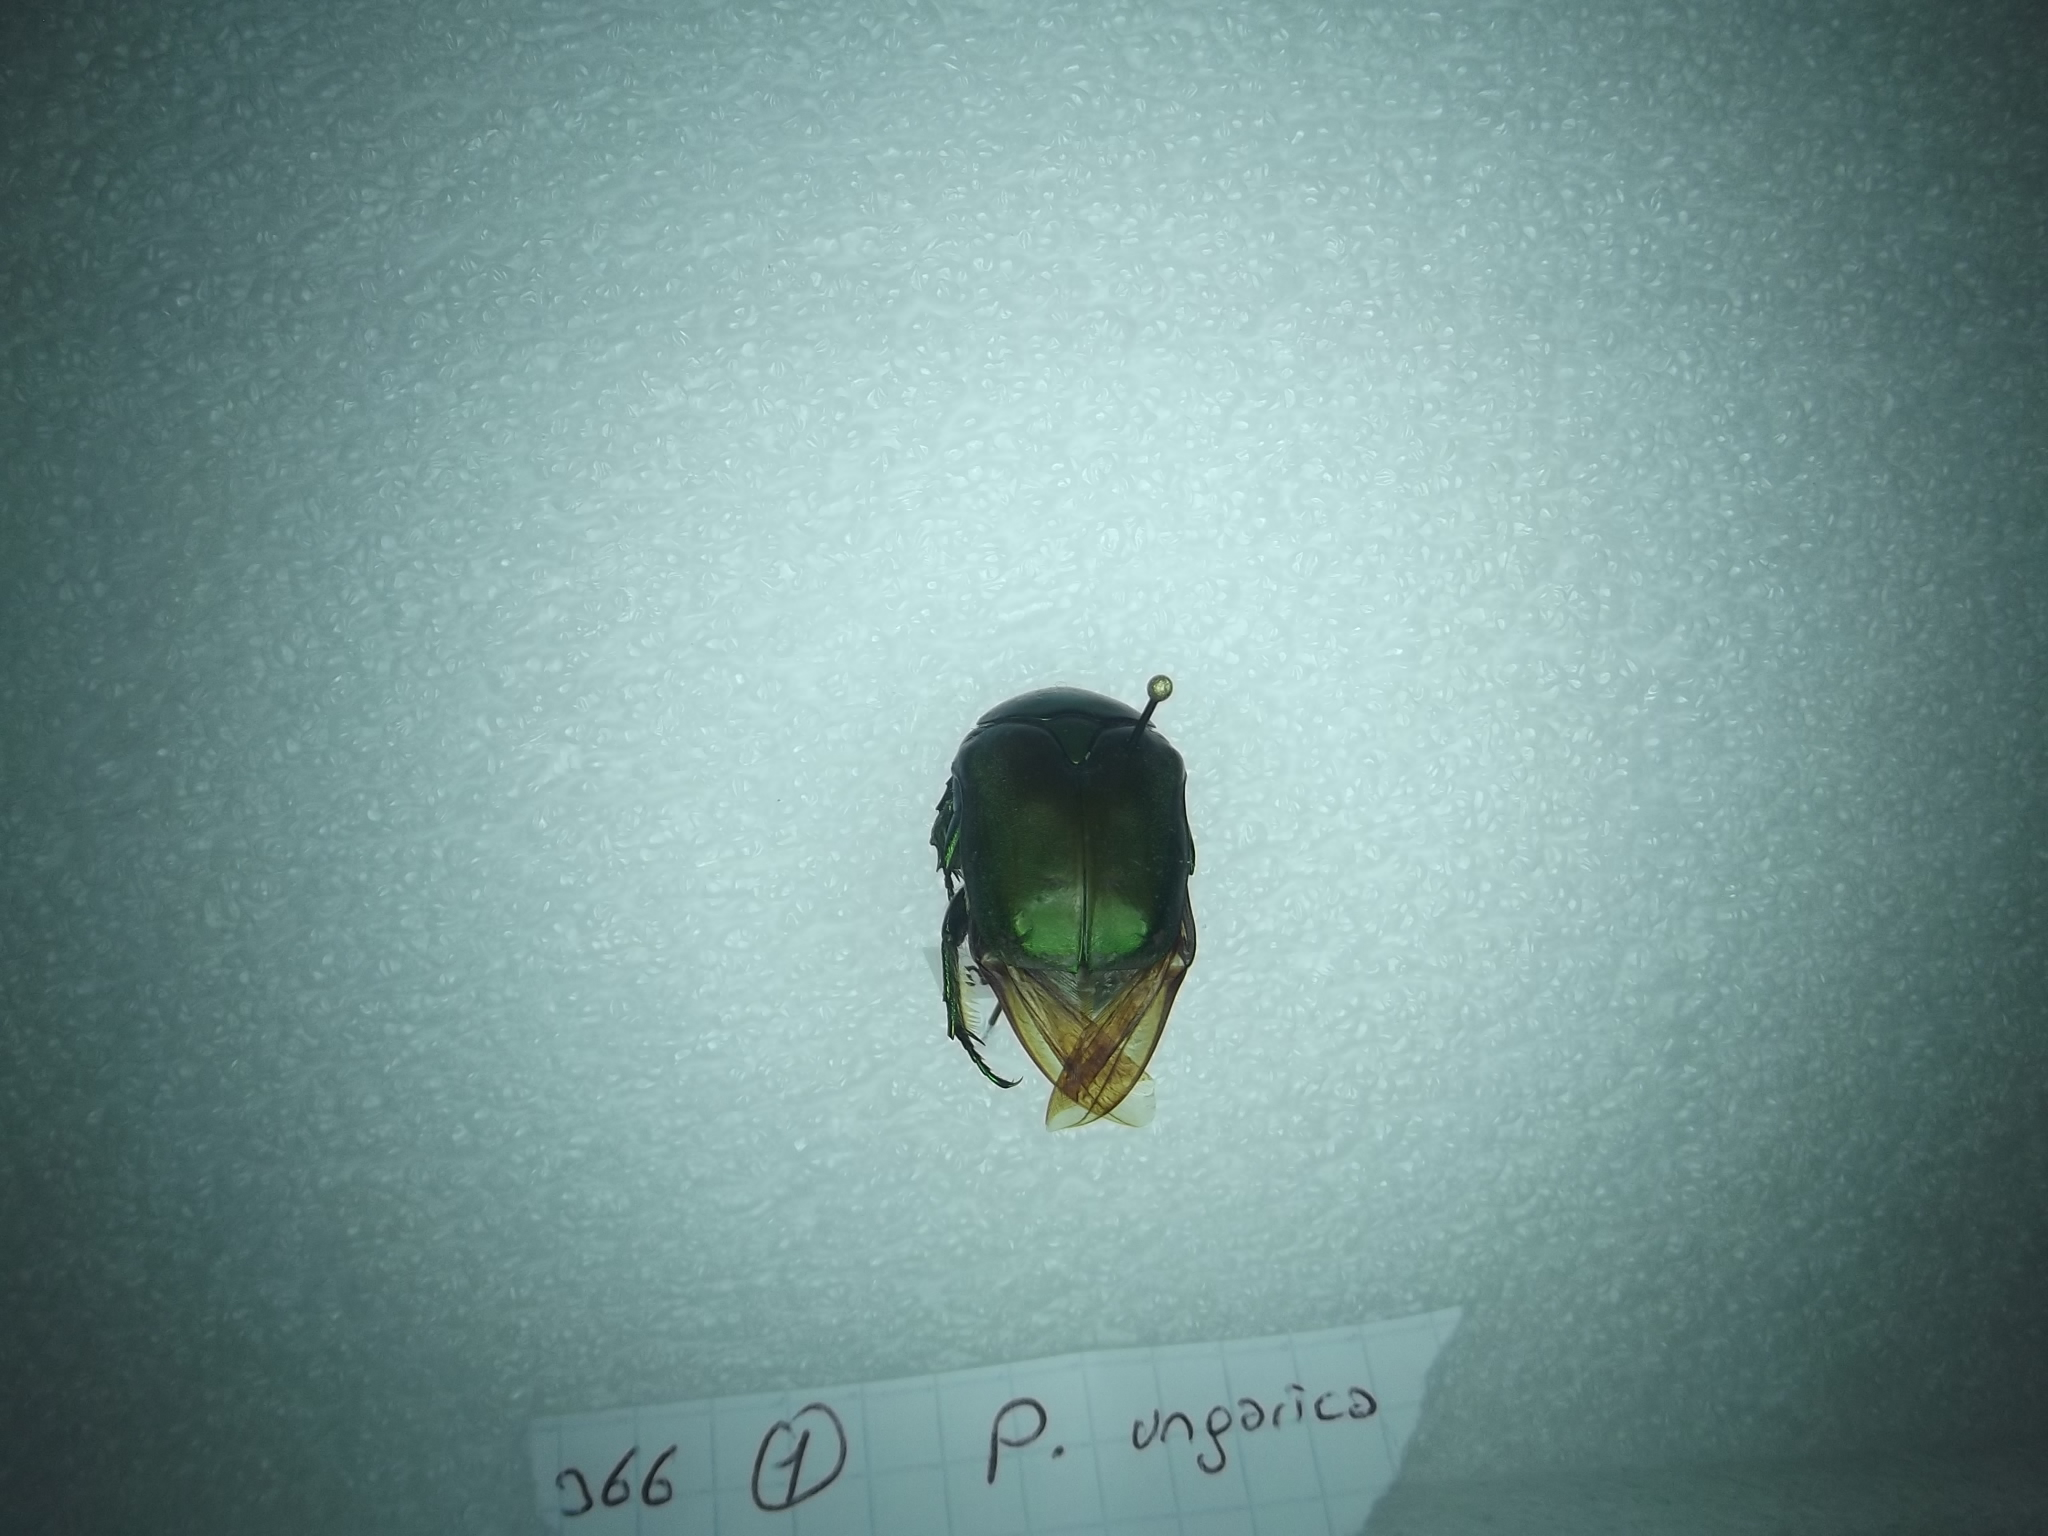Protaetia_ungarica_americana: (913, 674, 1218, 1139)
